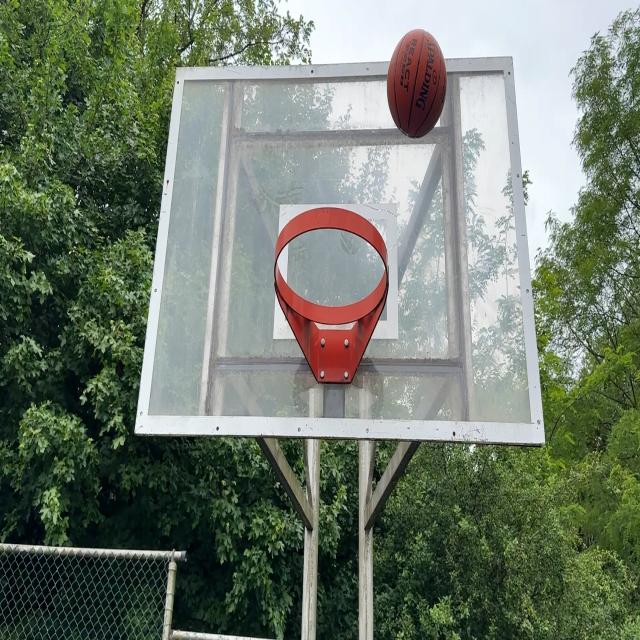Basketball: (388, 30, 448, 140)
